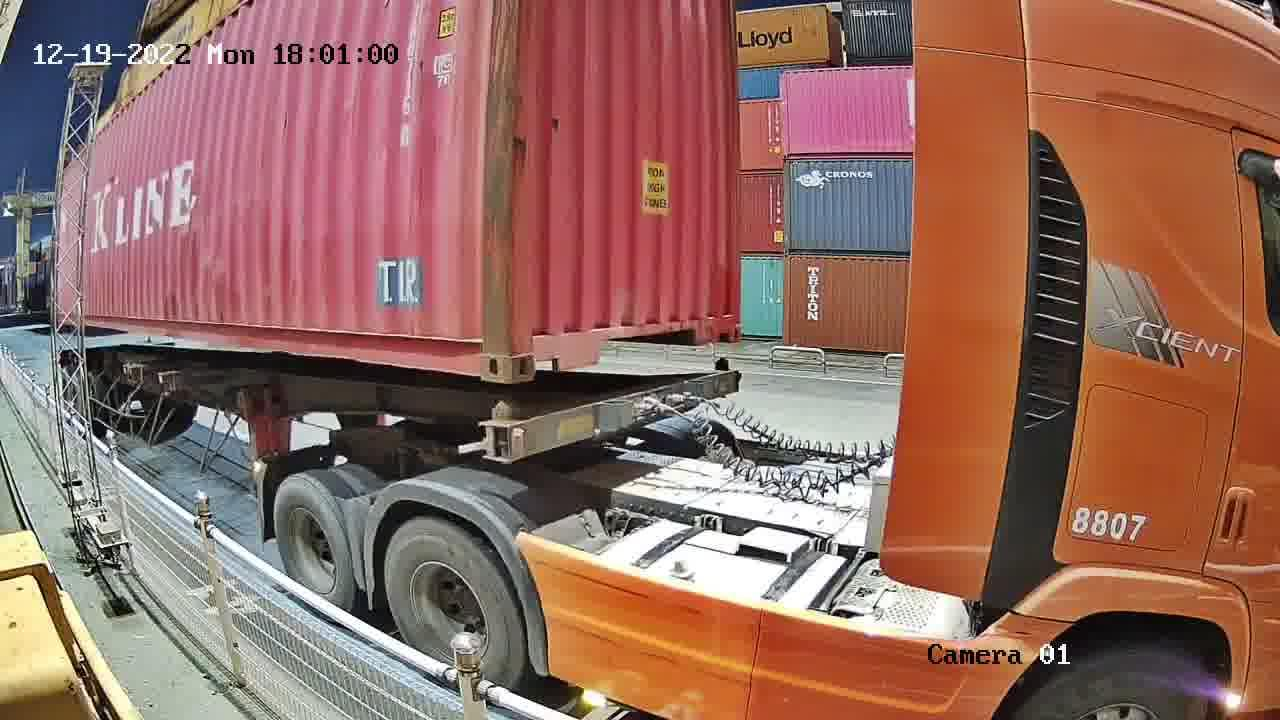Chassis: (481, 368, 737, 463)
Cone: (482, 402, 512, 460), (712, 357, 729, 375)
Hole_L: (505, 315, 570, 383)
Hole_R: (446, 317, 507, 384), (714, 297, 742, 341)
Tire: (384, 520, 526, 687), (272, 475, 349, 610)
